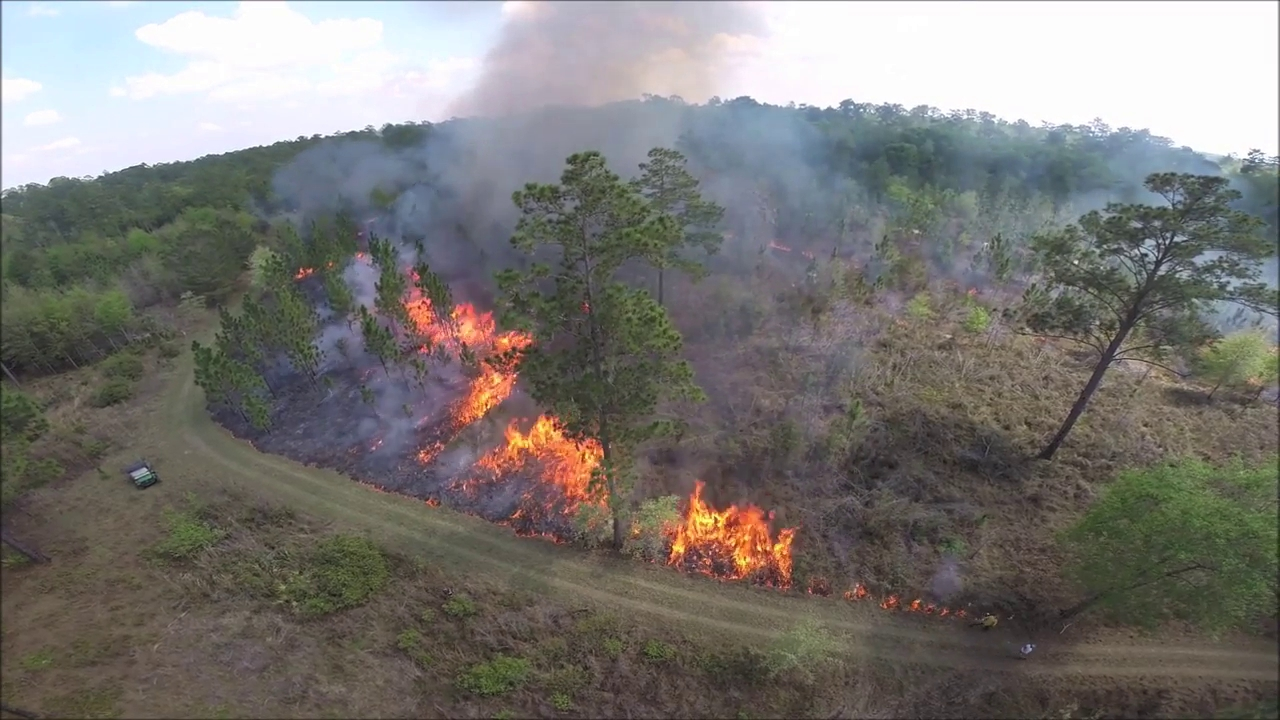forest_fire: (396, 268, 530, 466), (441, 413, 606, 540), (664, 483, 794, 588), (365, 438, 382, 451), (429, 497, 453, 502), (297, 272, 312, 278), (356, 253, 367, 261), (457, 507, 464, 508), (471, 505, 473, 506), (463, 501, 464, 503), (479, 499, 481, 500)
